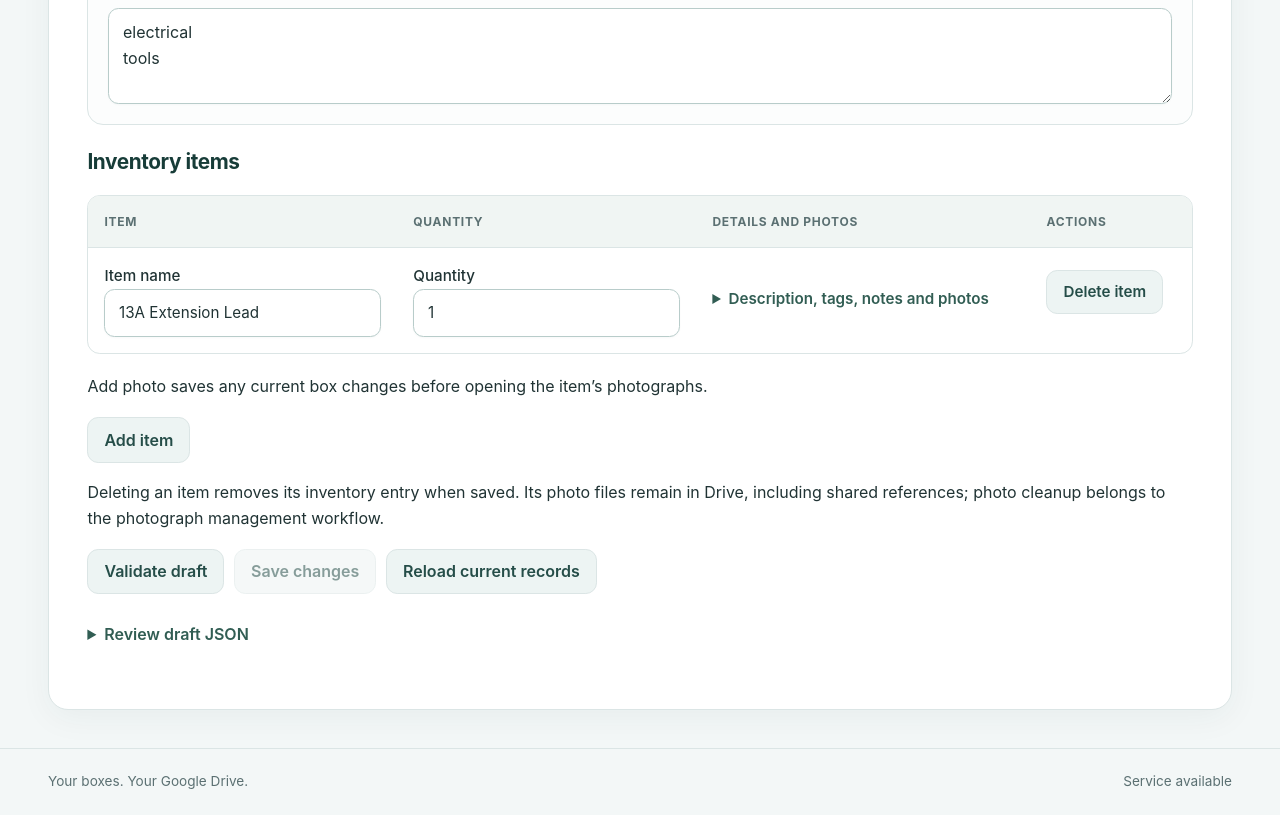
create/edit screens › keeps an invalid new item in the editor without opening photos or writing
(page scrolled)
Click the button "Add item".
click(139, 440)  # box [87, 418, 190, 463]
(page scrolled)
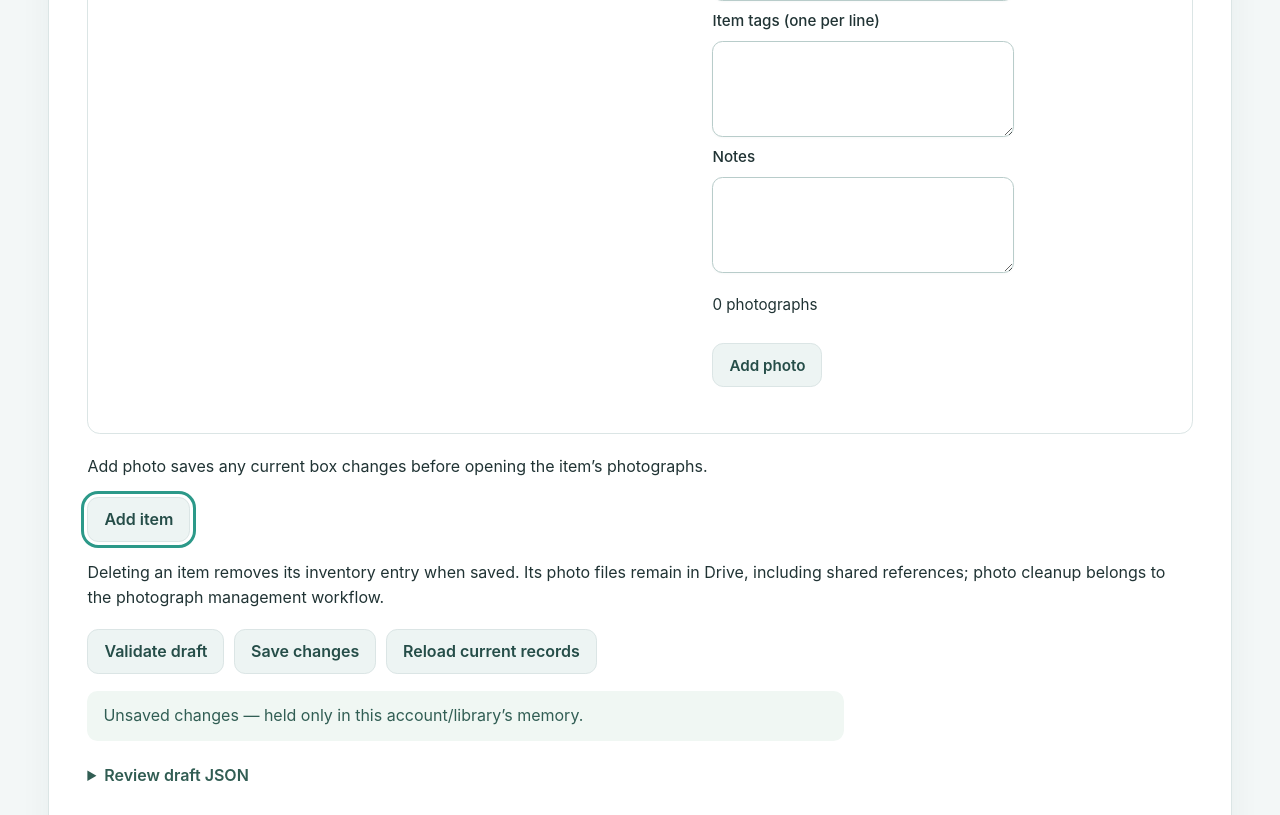
Click the button "Add photo".
click(767, 365)  # box [712, 343, 822, 387]
(page scrolled)
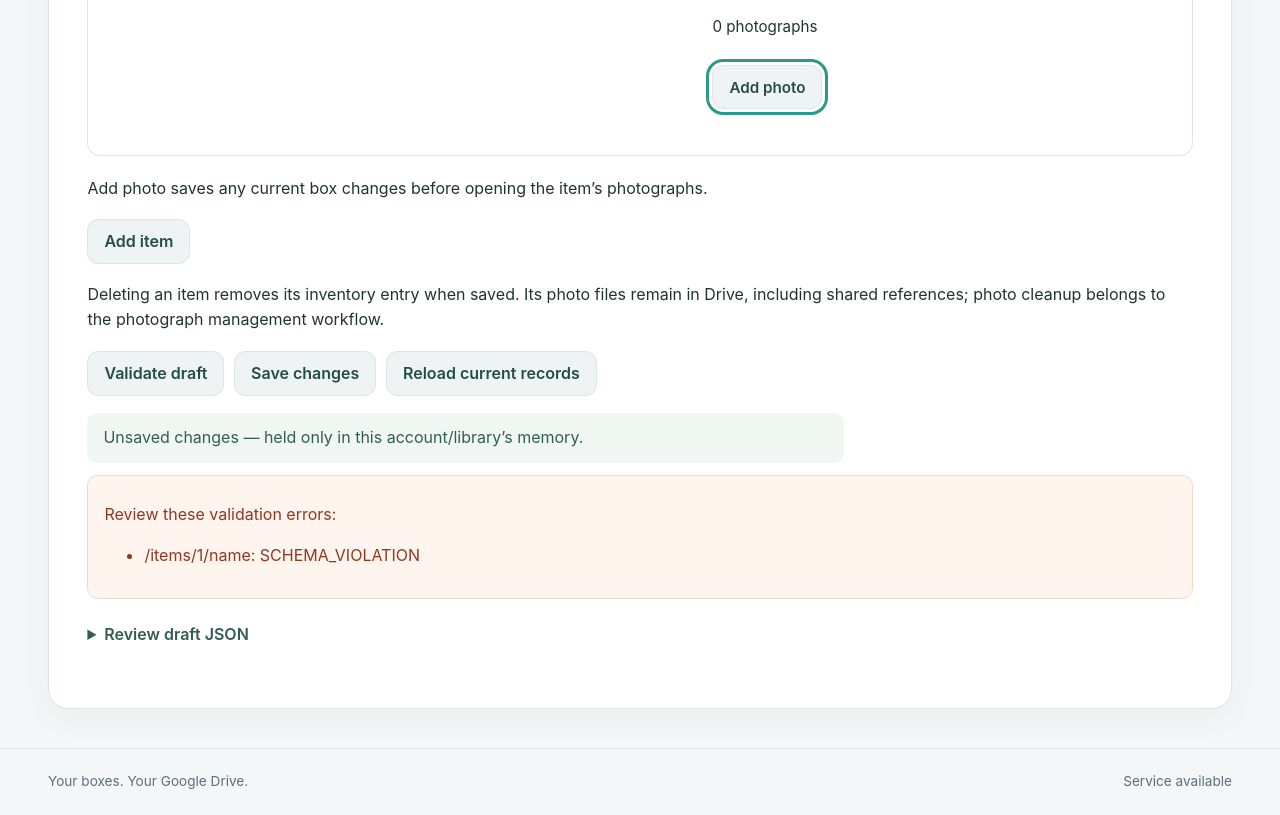
Result: the message "Review these validation errors: /items/1/name: SCHEMA_VIOLATION" is shown at [87, 475, 1193, 599]
